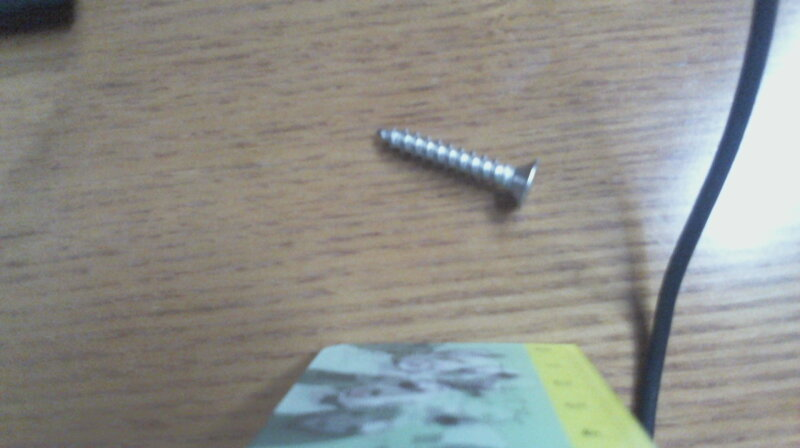S001: (373, 123, 540, 212)
